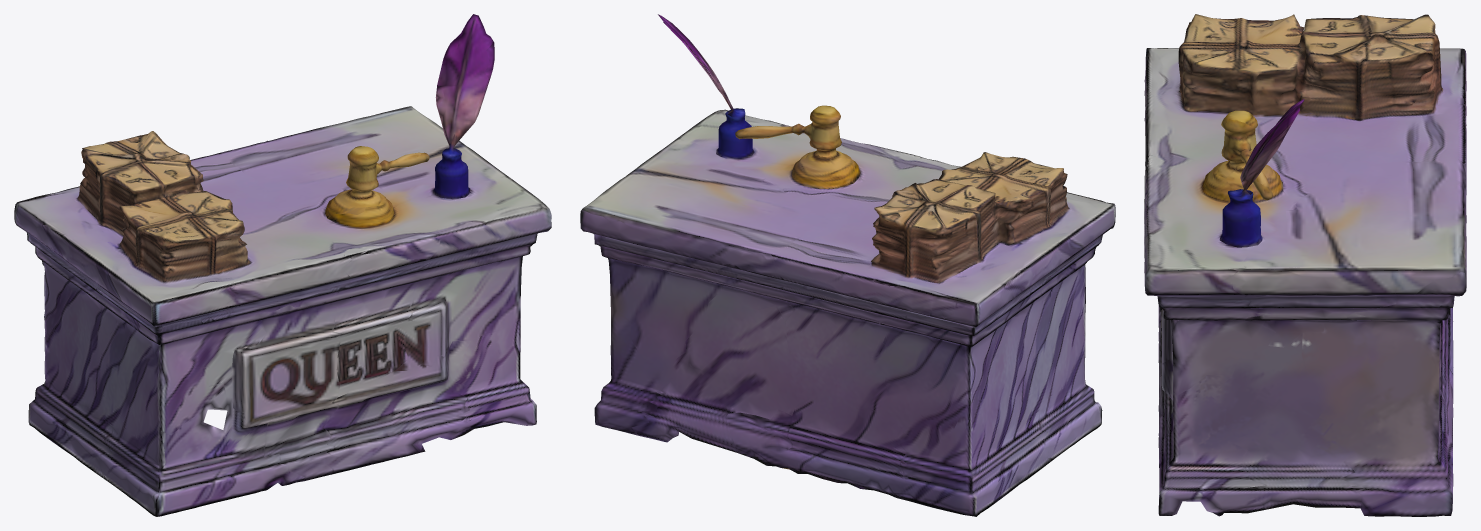
File: marble_bench.glb
The picture shows the model from 3 angles, left to right: view 1: azimuth 30°, elevation 25°; view 2: azimuth 150°, elevation 25°; view 3: azimuth 270°, elevation 25°; orthographic projection. The views are drawn at different scales.
Visible parts, largest first — view 1: MarbleDesk; view 2: MarbleDesk; view 3: MarbleDesk.
Part boxes in pixels (<box>): MarbleDesk: <box>14,14,551,516</box>; MarbleDesk: <box>580,14,1115,516</box>; MarbleDesk: <box>1144,14,1466,516</box>.
Bounding box in the file's own units: 1.2 × 1.05 × 0.7332.
Materials: 1 (1 with a texture image).
